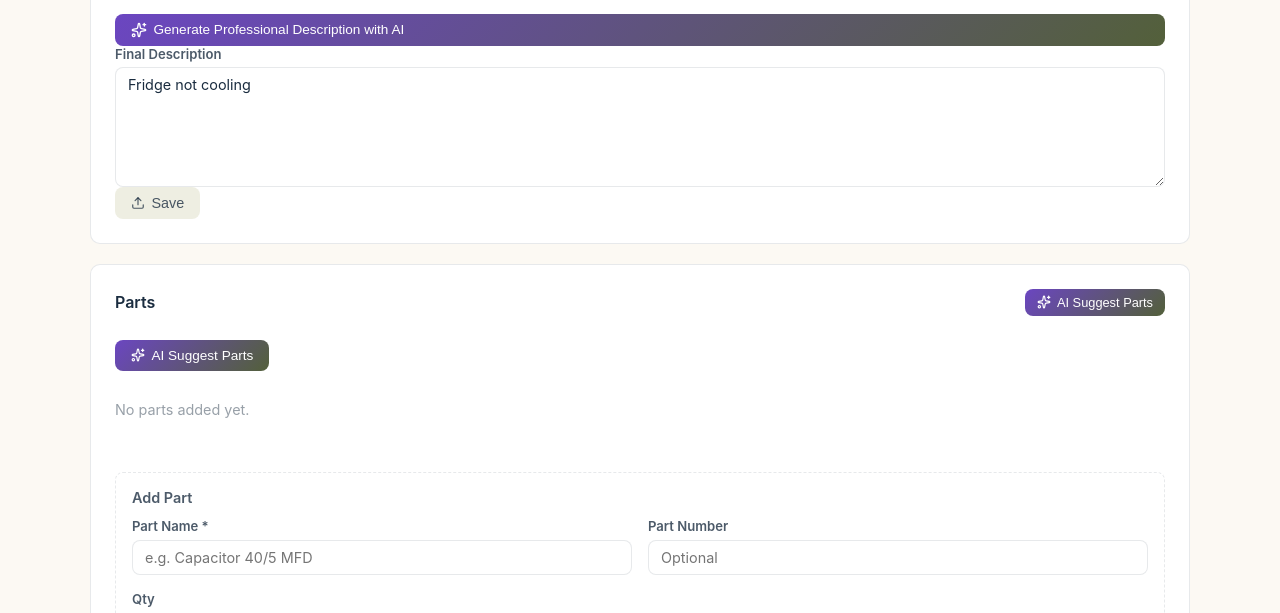
Test: the Add button disables while the request is in flight, so a repeated click cannot double-submit
(page scrolled)
Click the button with test id "suggest-parts-btn" at (1095, 302), box [1025,289,1165,316]
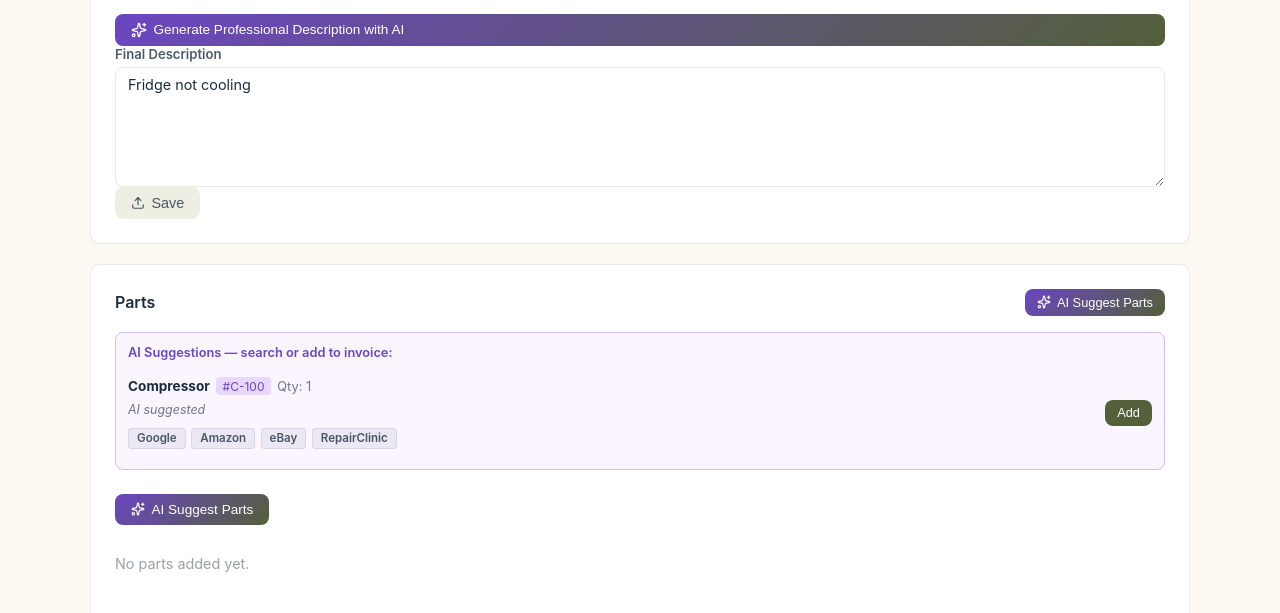
Click the button with test id "add-suggested-part-0" at (1129, 413), box [1105,400,1152,426]
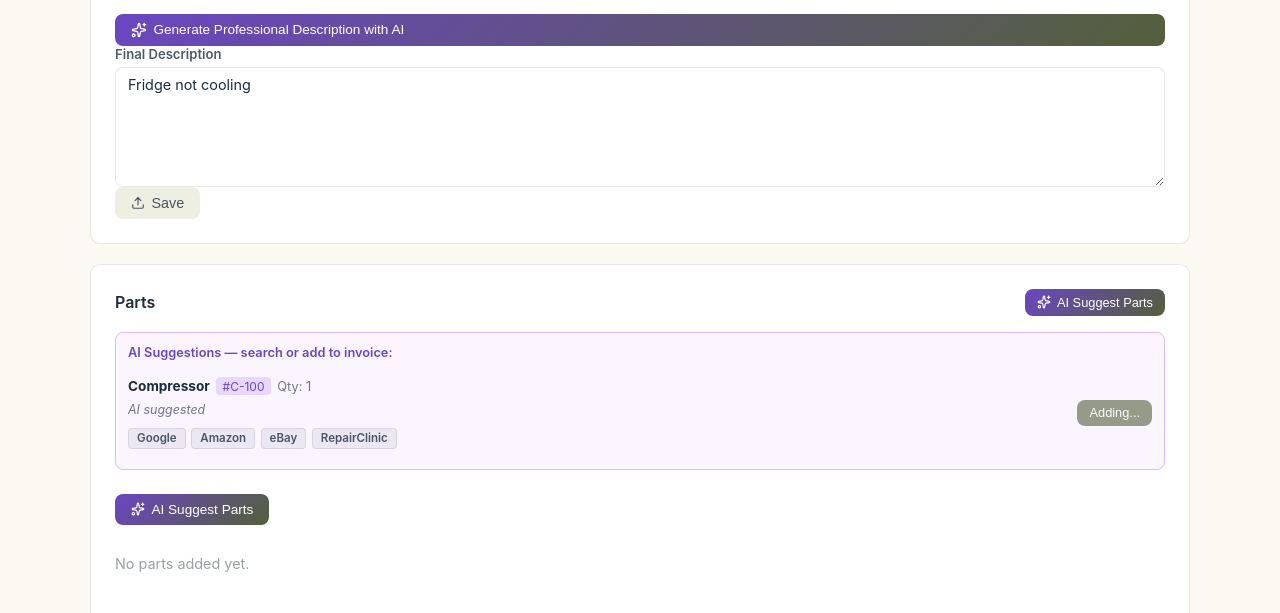
Expected: the button with test id "add-suggested-part-0" is disabled
Click the button with test id "add-suggested-part-0" at (1115, 413), box [1078,400,1152,426]
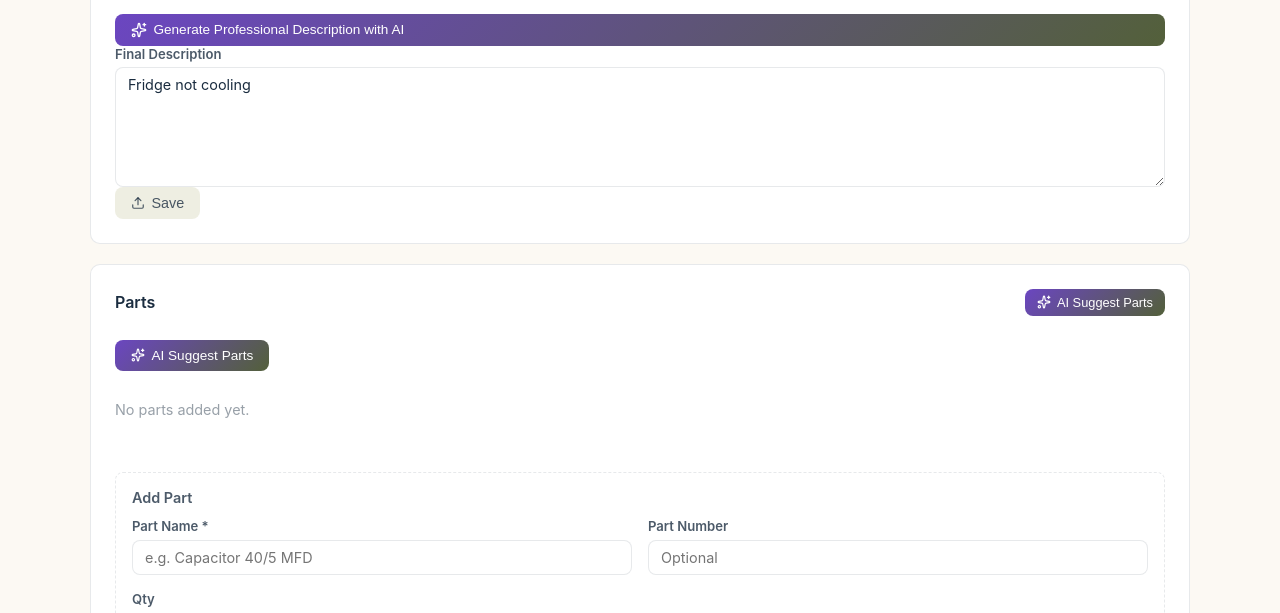
Expected: the button with test id "add-suggested-part-0" is gone
